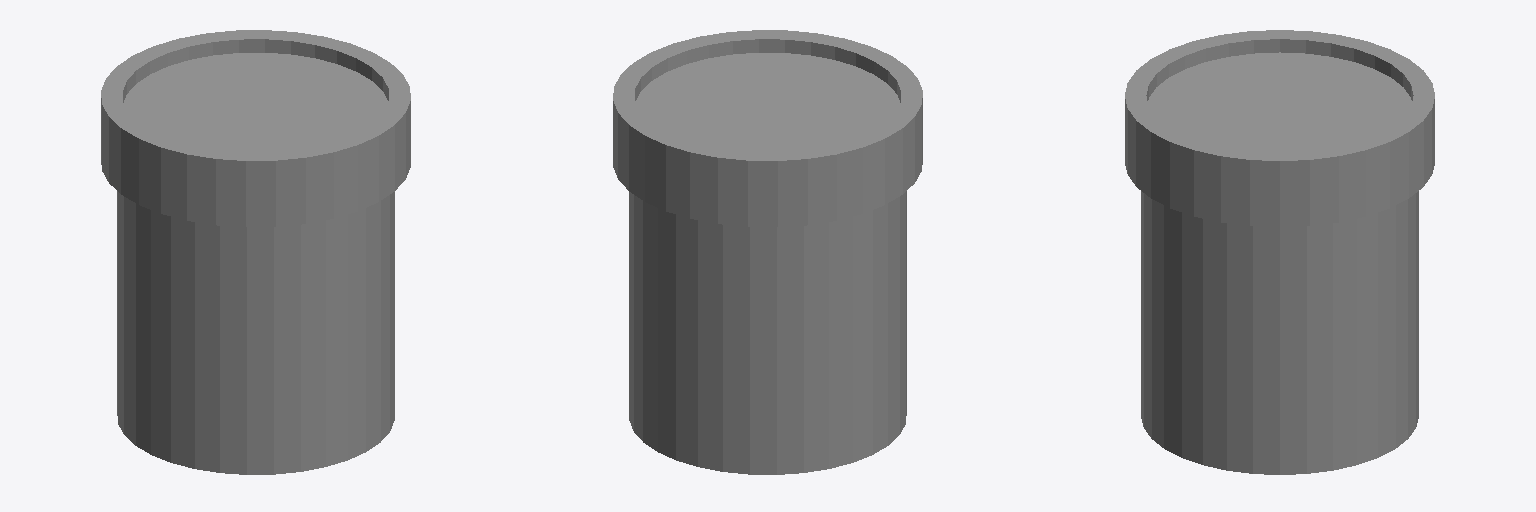
File: rohr.obj
The picture shows the model from 3 angles: view 1: azimuth 30°, elevation 25°; view 2: azimuth 150°, elevation 25°; view 3: azimuth 270°, elevation 25°; orthographic projection.
Parts seen in each view (by area): view 1: Cylinder.002_Cylinder.004; view 2: Cylinder.002_Cylinder.004; view 3: Cylinder.002_Cylinder.004.
Part boxes in pixels (x1,y1,x2,y2): Cylinder.002_Cylinder.004: (101,30,410,474); Cylinder.002_Cylinder.004: (613,30,922,474); Cylinder.002_Cylinder.004: (1125,30,1434,474).
Bounding box in the file's own units: 2.24 × 2.55 × 2.24.